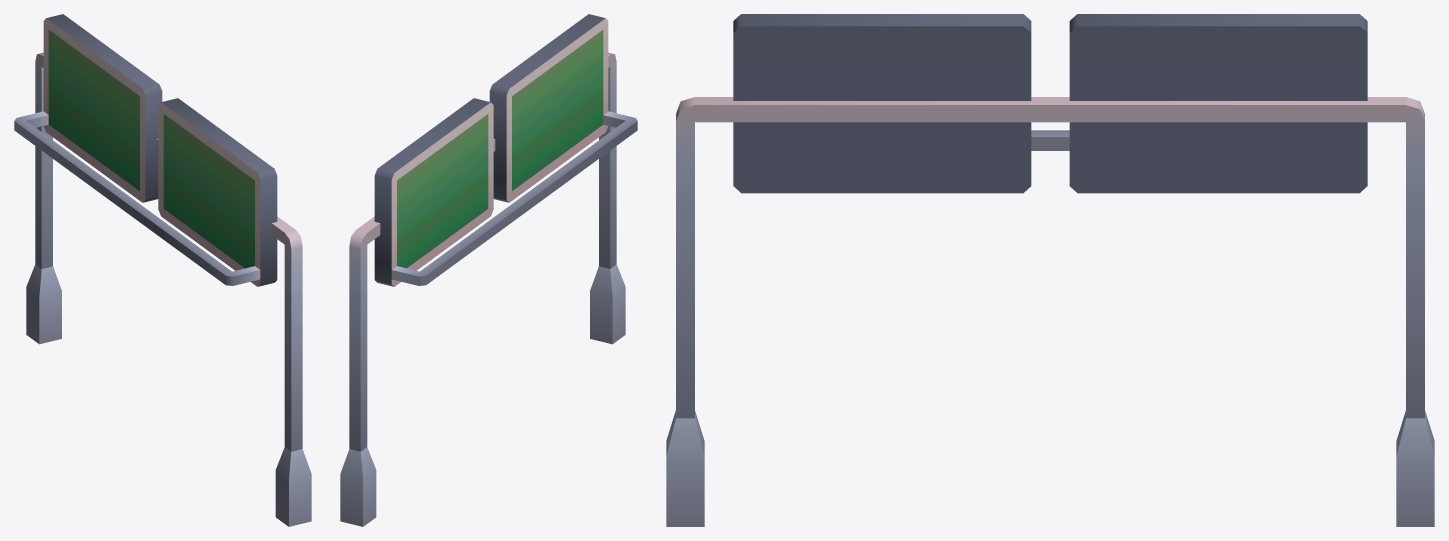
File: road_sign_highway.glb
The picture shows the model from 3 angles, left to right: view 1: azimuth 30°, elevation 25°; view 2: azimuth 150°, elevation 25°; view 3: azimuth 270°, elevation 25°; orthographic projection. The views are drawn at different scales.
Parts seen in each view (by area): view 1: sign-highway; view 2: sign-highway; view 3: sign-highway.
Boxes of the visible parts, box(x1,y1,x2,y2) form: sign-highway: box(14, 14, 311, 526); sign-highway: box(340, 14, 637, 526); sign-highway: box(666, 14, 1434, 526).
Size of the model in its own units: 0.1324 by 0.7074 by 1.
Materials: 1 (1 with a texture image).
